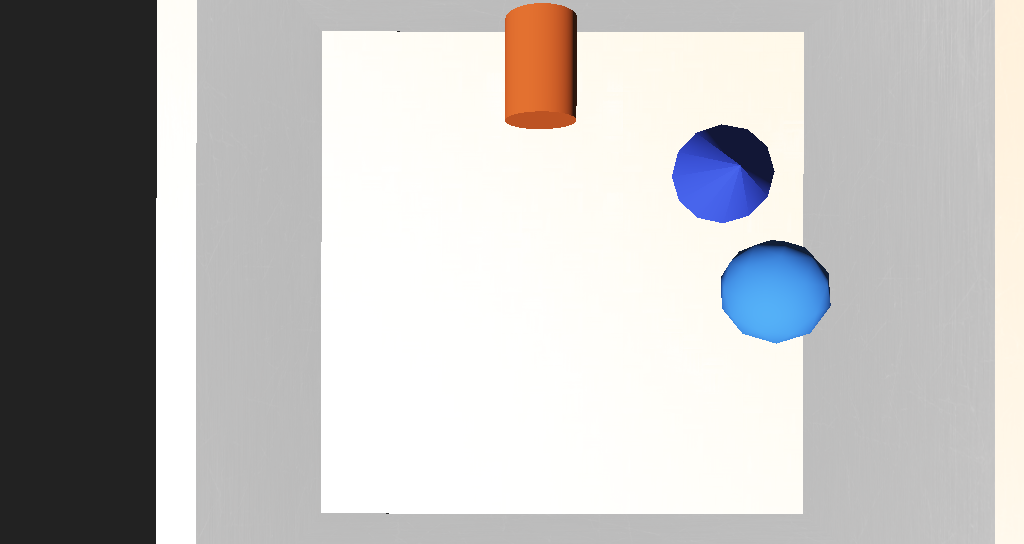cone: (468, 155, 515, 208)
cylinder: (566, 198, 647, 251)
sphere: (603, 255, 664, 298)
